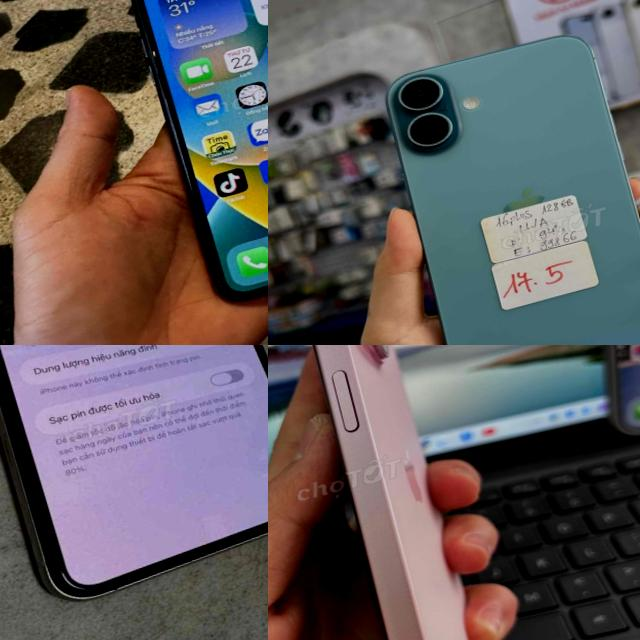gen_11: (0, 345, 268, 598), (111, 0, 268, 312)
gen_15: (268, 345, 532, 640)
gen_16: (386, 36, 640, 345)
